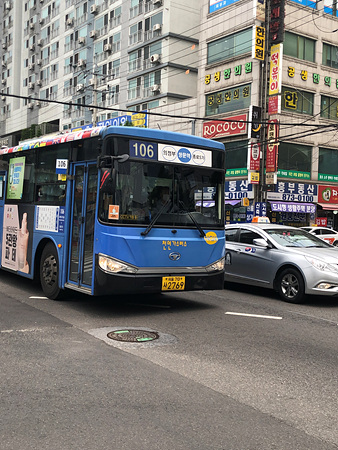bnum: (130, 139, 157, 159)
